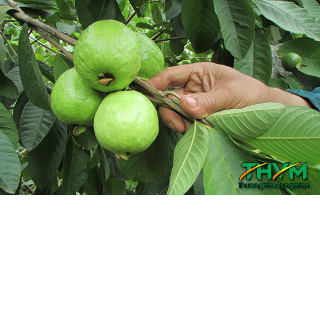oi: (70, 15, 147, 93), (92, 82, 164, 159), (43, 59, 108, 130)
